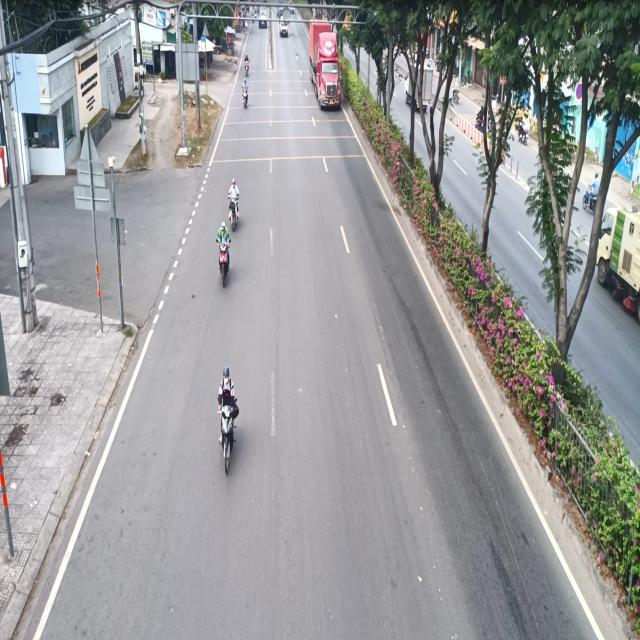motor: (220, 367, 239, 478), (216, 222, 232, 290), (226, 172, 242, 234), (242, 79, 250, 109), (245, 51, 251, 82)
truck: (308, 21, 343, 112)
